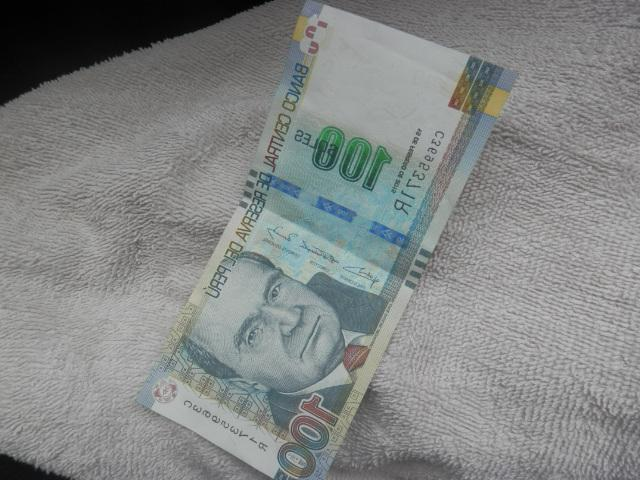B100: (137, 3, 516, 480)
